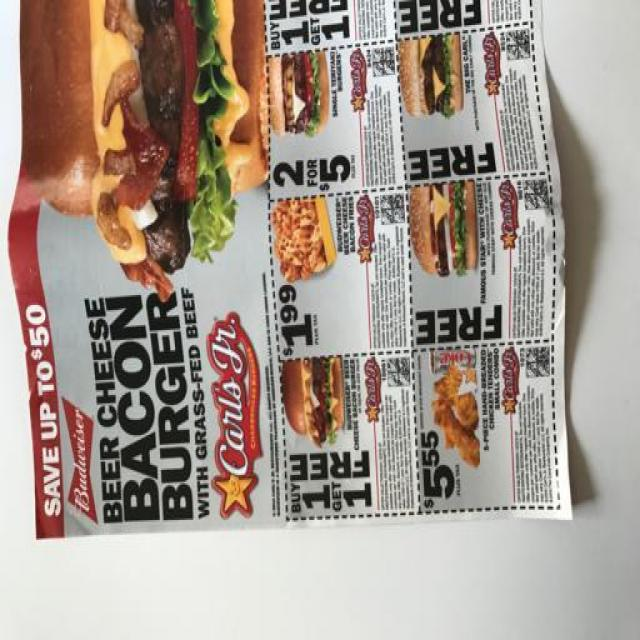paper: (10, 1, 640, 640)
